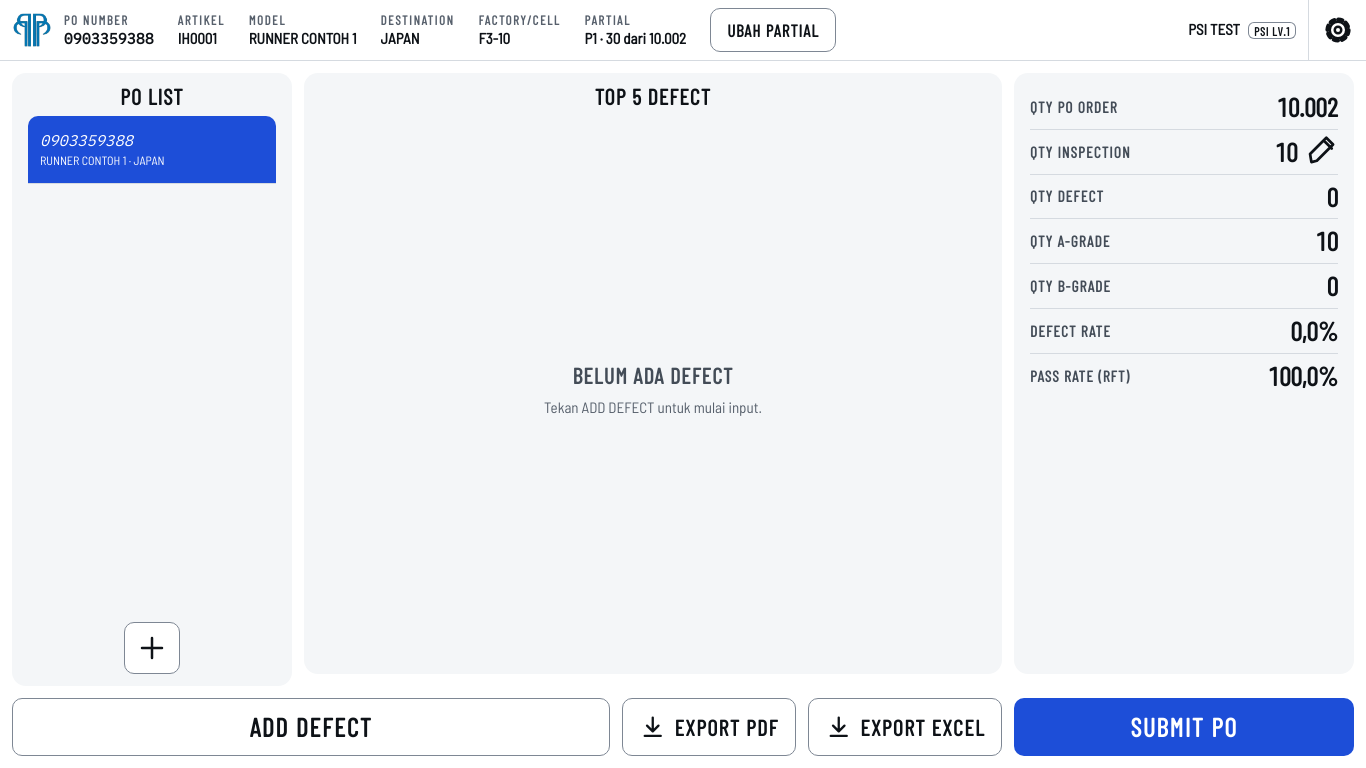
Test: accepts an all-good session with manual Qty Inspection and no findings
The width and height of the screenshot is (1366, 768).
Click the button "SUBMIT PO".
click(1184, 727)  # box x1=1014 y1=698 x2=1354 y2=756
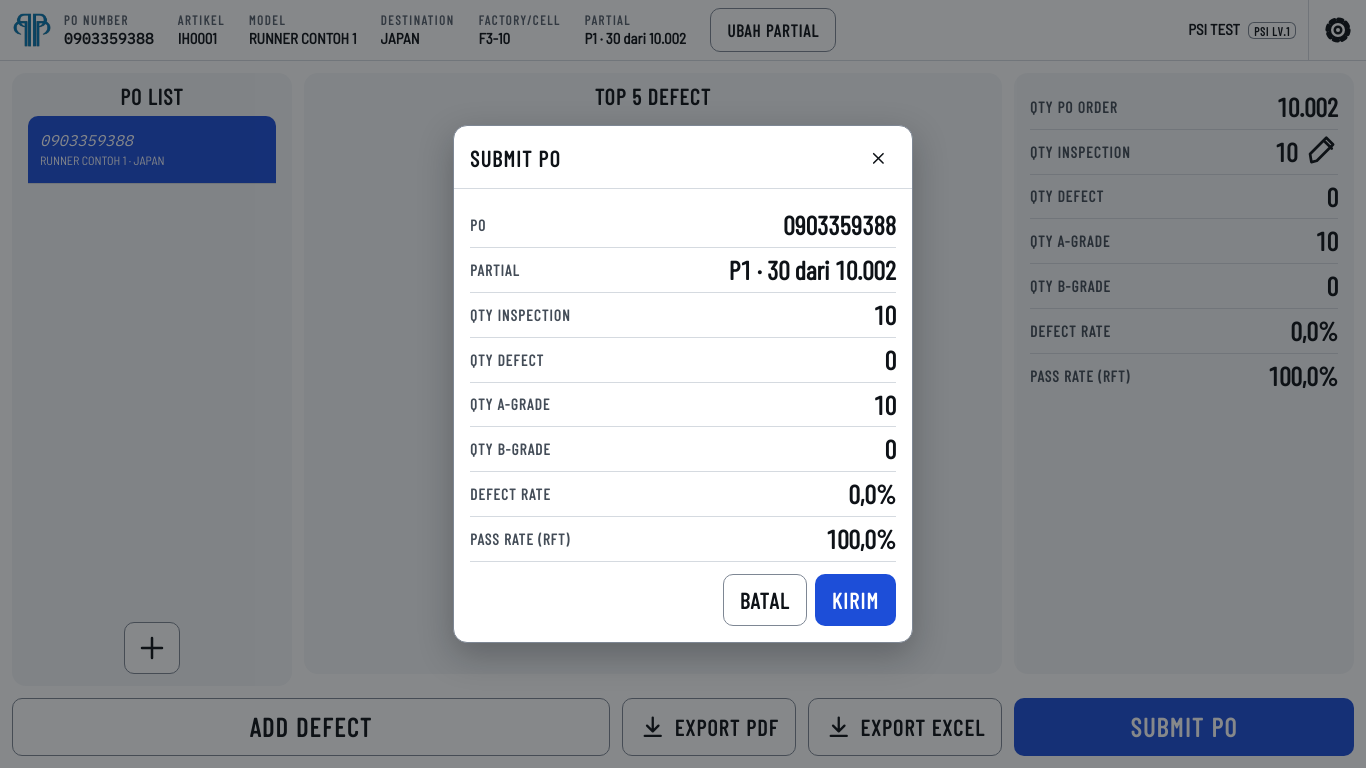
Result: the dialog "Submit PO" is shown at x1=453 y1=125 x2=913 y2=643
